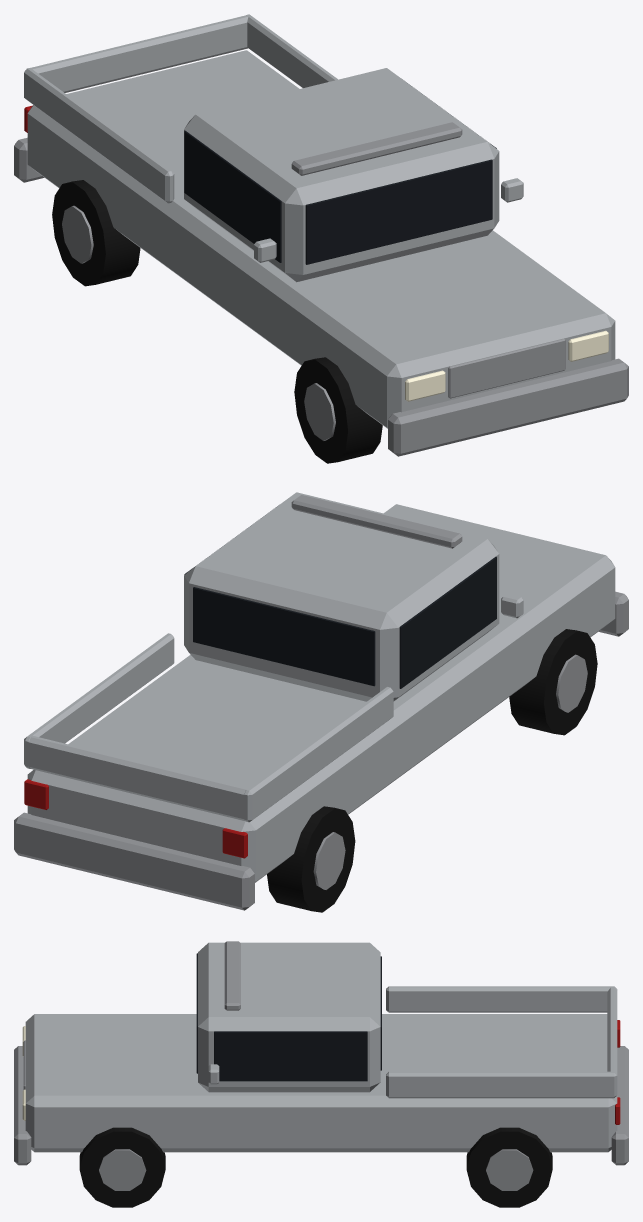
The model's file is pickup_silver.dae.
3 renders of one model, top to bottom at view 1: azimuth 30°, elevation 25°; view 2: azimuth 150°, elevation 25°; view 3: azimuth 270°, elevation 25°, orthographic. The views are drawn at different scales.
Parts seen in each view (by area): view 1: marker; view 2: marker; view 3: marker.
Part boxes in pixels (box(x1,y1,x2,y2)): marker: box(14, 14, 628, 463); marker: box(14, 492, 628, 912); marker: box(14, 941, 628, 1207).
Size of the model in its own units: 2.28 by 5.72 by 1.92.
1 material, 1 textured.
